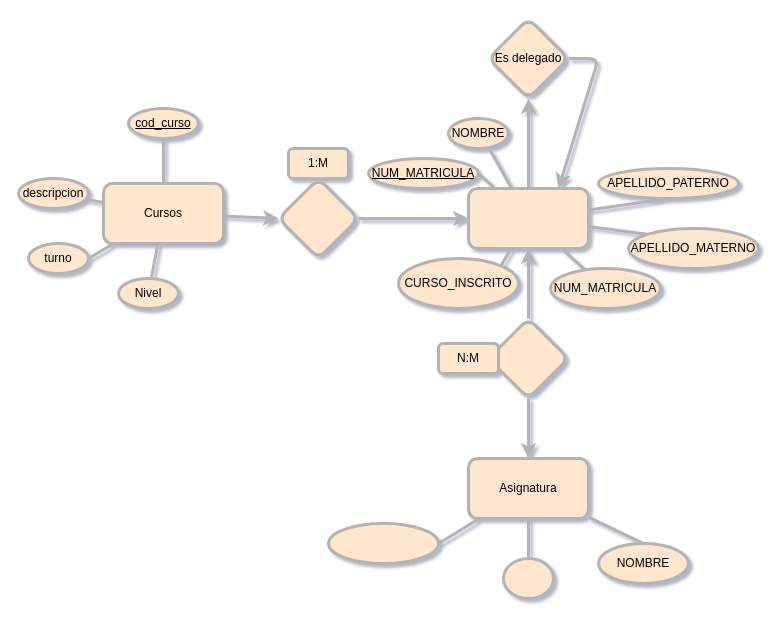
Image size: 783x623. Some labels were removed from this diagram. Each missing label, with the centre of its shape:
Alumno: (x=528, y=218)
COD_ASIGNATURA: (x=383, y=543)
Cursa: (x=528, y=358)
Pertenece: (x=318, y=218)
TIPO: (x=528, y=578)
